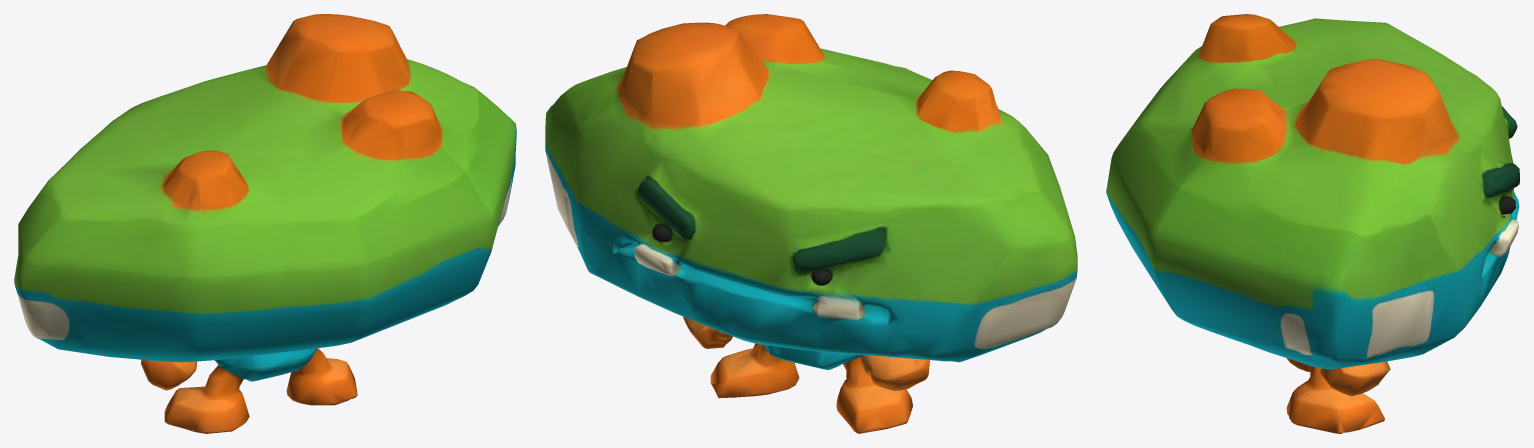
File: enemy-tank.glb
The picture shows the model from 3 angles, left to right: view 1: azimuth 30°, elevation 25°; view 2: azimuth 150°, elevation 25°; view 3: azimuth 270°, elevation 25°; orthographic projection. The views are drawn at different scales.
Visible parts, largest first — view 1: model; view 2: model; view 3: model.
Boxes of the visible parts, x1,y1,x2,y2 form: model: (14, 14, 516, 433); model: (545, 14, 1077, 433); model: (1106, 14, 1519, 433).
Size of the model in its own units: 1 by 0.6473 by 0.6704.
Materials: 1 (1 with a texture image).
